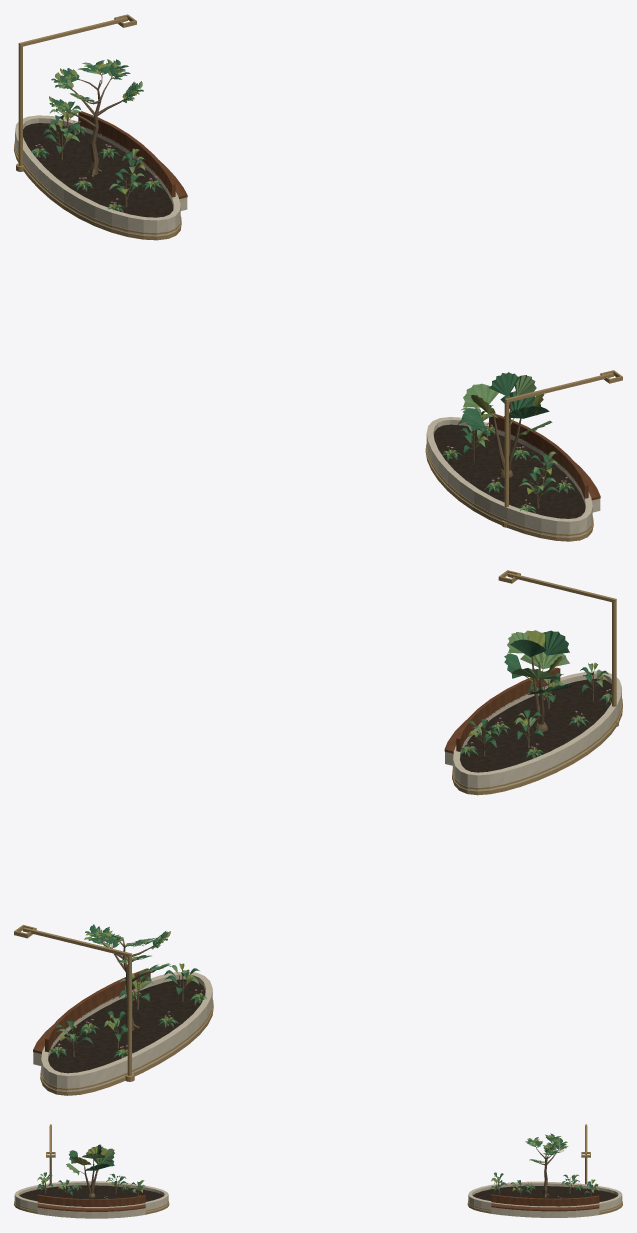
Rendered from G7_Completion_R006_G7C6_D06_ComposedEdge.glb.
3 renders of one model, top to bottom at view 1: azimuth 30°, elevation 25°; view 2: azimuth 150°, elevation 25°; view 3: azimuth 270°, elevation 25°, orthographic. The views are drawn at different scales.
Visible parts, largest first — view 1: G7C6_D06_ComposedEdge_G7C6_soil_solid_planter, G7C6_D06_ComposedEdge_G7C6_stone_solid_planter, G7C6_D06_ComposedEdge_G7C6_wood_solid_furniture, G7C6_D06_ComposedEdge_G7C6_metal_solid_fixture, G7C6_D06_ComposedEdge_G7C6_metal_solid_planter, G7C6_D06_ComposedEdge_ASTRAEA_botanical_leaf_jade.003_visual, G7C6_D06_ComposedEdge_ASTRAEA_botanical_leaf_jade.001_visual, G7C6_D06_ComposedEdge_ASTRAEA_botanical_leaf_jade_visual_fol, G7C6_D06_ComposedEdge_ASTRAEA_botanical_leaf_sage.003_visual, G7C6_D06_ComposedEdge_ASTRAEA_botanical_bark_solid_tree_bark, G7C6_D06_ComposedEdge_ASTRAEA_botanical_leaf_sage.001_visual, G7C6_D06_ComposedEdge_ASTRAEA_botanical_leaf_jade.002_visual; view 2: G7C6_D06_ComposedEdge_G7C6_soil_solid_planter, G7C6_D06_ComposedEdge_G7C6_stone_solid_planter, G7C6_D06_ComposedEdge_G7C6_wood_solid_furniture, G7C6_D06_ComposedEdge_G7C6_metal_solid_planter, G7C6_D06_ComposedEdge_G7C6_metal_solid_fixture, G7C6_D06_ComposedEdge_ASTRAEA_botanical_leaf_jade.001_visual, G7C6_D06_ComposedEdge_ASTRAEA_botanical_leaf_jade.003_visual, G7C6_D06_ComposedEdge_ASTRAEA_botanical_leaf_sage.003_visual, G7C6_D06_ComposedEdge_ASTRAEA_botanical_leaf_sage.001_visual, G7C6_D06_ComposedEdge_ASTRAEA_botanical_leaf_jade_visual_fol; view 3: G7C6_D06_ComposedEdge_G7C6_wood_solid_furniture, G7C6_D06_ComposedEdge_G7C6_soil_solid_planter, G7C6_D06_ComposedEdge_G7C6_stone_solid_planter, G7C6_D06_ComposedEdge_G7C6_stone_solid_furniture, G7C6_D06_ComposedEdge_ASTRAEA_botanical_leaf_jade.001_visual, G7C6_D06_ComposedEdge_G7C6_metal_solid_planter, G7C6_D06_ComposedEdge_G7C6_metal_solid_fixture, G7C6_D06_ComposedEdge_ASTRAEA_botanical_leaf_jade_visual_fol, G7C6_D06_ComposedEdge_ASTRAEA_botanical_leaf_jade.003_visual, G7C6_D06_ComposedEdge_ASTRAEA_botanical_bark_solid_tree_bark, G7C6_D06_ComposedEdge_ASTRAEA_botanical_leaf_sage.003_visual, G7C6_D06_ComposedEdge_ASTRAEA_botanical_leaf_olive.003_visua (+6 smaller).
Part boxes in pixels (x1,y1,x2,y2): G7C6_D06_ComposedEdge_G7C6_soil_solid_planter: [23, 123, 585, 518]; G7C6_D06_ComposedEdge_G7C6_stone_solid_planter: [15, 115, 592, 537]; G7C6_D06_ComposedEdge_G7C6_wood_solid_furniture: [78, 111, 600, 500]; G7C6_D06_ComposedEdge_G7C6_metal_solid_fixture: [16, 14, 622, 527]; G7C6_D06_ComposedEdge_G7C6_metal_solid_planter: [14, 141, 593, 541]; G7C6_D06_ComposedEdge_ASTRAEA_botanical_leaf_jade.003_visual: [463, 372, 549, 430]; G7C6_D06_ComposedEdge_ASTRAEA_botanical_leaf_jade.001_visual: [42, 101, 559, 492]; G7C6_D06_ComposedEdge_ASTRAEA_botanical_leaf_jade_visual_fol: [49, 59, 143, 111]; G7C6_D06_ComposedEdge_ASTRAEA_botanical_leaf_sage.003_visual: [463, 375, 552, 437]; G7C6_D06_ComposedEdge_ASTRAEA_botanical_bark_solid_tree_bark: [57, 70, 127, 177]; G7C6_D06_ComposedEdge_ASTRAEA_botanical_leaf_sage.001_visual: [48, 108, 558, 490]; G7C6_D06_ComposedEdge_ASTRAEA_botanical_leaf_jade.002_visual: [31, 126, 574, 513]; G7C6_D06_ComposedEdge_G7C6_soil_solid_planter: [48, 678, 611, 1073]; G7C6_D06_ComposedEdge_G7C6_stone_solid_planter: [41, 671, 621, 1091]; G7C6_D06_ComposedEdge_G7C6_wood_solid_furniture: [33, 667, 560, 1053]; G7C6_D06_ComposedEdge_G7C6_metal_solid_planter: [40, 698, 622, 1095]; G7C6_D06_ComposedEdge_G7C6_metal_solid_fixture: [14, 570, 618, 1081]; G7C6_D06_ComposedEdge_ASTRAEA_botanical_leaf_jade.001_visual: [56, 667, 608, 1044]; G7C6_D06_ComposedEdge_ASTRAEA_botanical_leaf_jade.003_visual: [504, 630, 572, 694]; G7C6_D06_ComposedEdge_ASTRAEA_botanical_leaf_sage.003_visual: [507, 632, 569, 679]; G7C6_D06_ComposedEdge_ASTRAEA_botanical_leaf_sage.001_visual: [56, 663, 603, 1038]; G7C6_D06_ComposedEdge_ASTRAEA_botanical_leaf_jade_visual_fol: [85, 924, 170, 973]; G7C6_D06_ComposedEdge_G7C6_wood_solid_furniture: [37, 1194, 599, 1211]; G7C6_D06_ComposedEdge_G7C6_soil_solid_planter: [19, 1185, 617, 1201]; G7C6_D06_ComposedEdge_G7C6_stone_solid_planter: [14, 1181, 622, 1212]; G7C6_D06_ComposedEdge_G7C6_stone_solid_furniture: [37, 1207, 599, 1218]; G7C6_D06_ComposedEdge_ASTRAEA_botanical_leaf_jade.001_visual: [38, 1172, 597, 1195]; G7C6_D06_ComposedEdge_G7C6_metal_solid_planter: [14, 1201, 622, 1214]; G7C6_D06_ComposedEdge_G7C6_metal_solid_fixture: [46, 1124, 590, 1184]; G7C6_D06_ComposedEdge_ASTRAEA_botanical_leaf_jade_visual_fol: [525, 1133, 568, 1162]; G7C6_D06_ComposedEdge_ASTRAEA_botanical_leaf_jade.003_visual: [68, 1144, 114, 1170]; G7C6_D06_ComposedEdge_ASTRAEA_botanical_bark_solid_tree_bark: [533, 1140, 563, 1197]; G7C6_D06_ComposedEdge_ASTRAEA_botanical_leaf_sage.003_visual: [66, 1148, 114, 1175]; G7C6_D06_ComposedEdge_ASTRAEA_botanical_leaf_olive.003_visua: [69, 1146, 108, 1174].
Size of the model in its own units: 3.43 by 3.39 by 26.85.
Materials: 22 (21 with a texture image).
